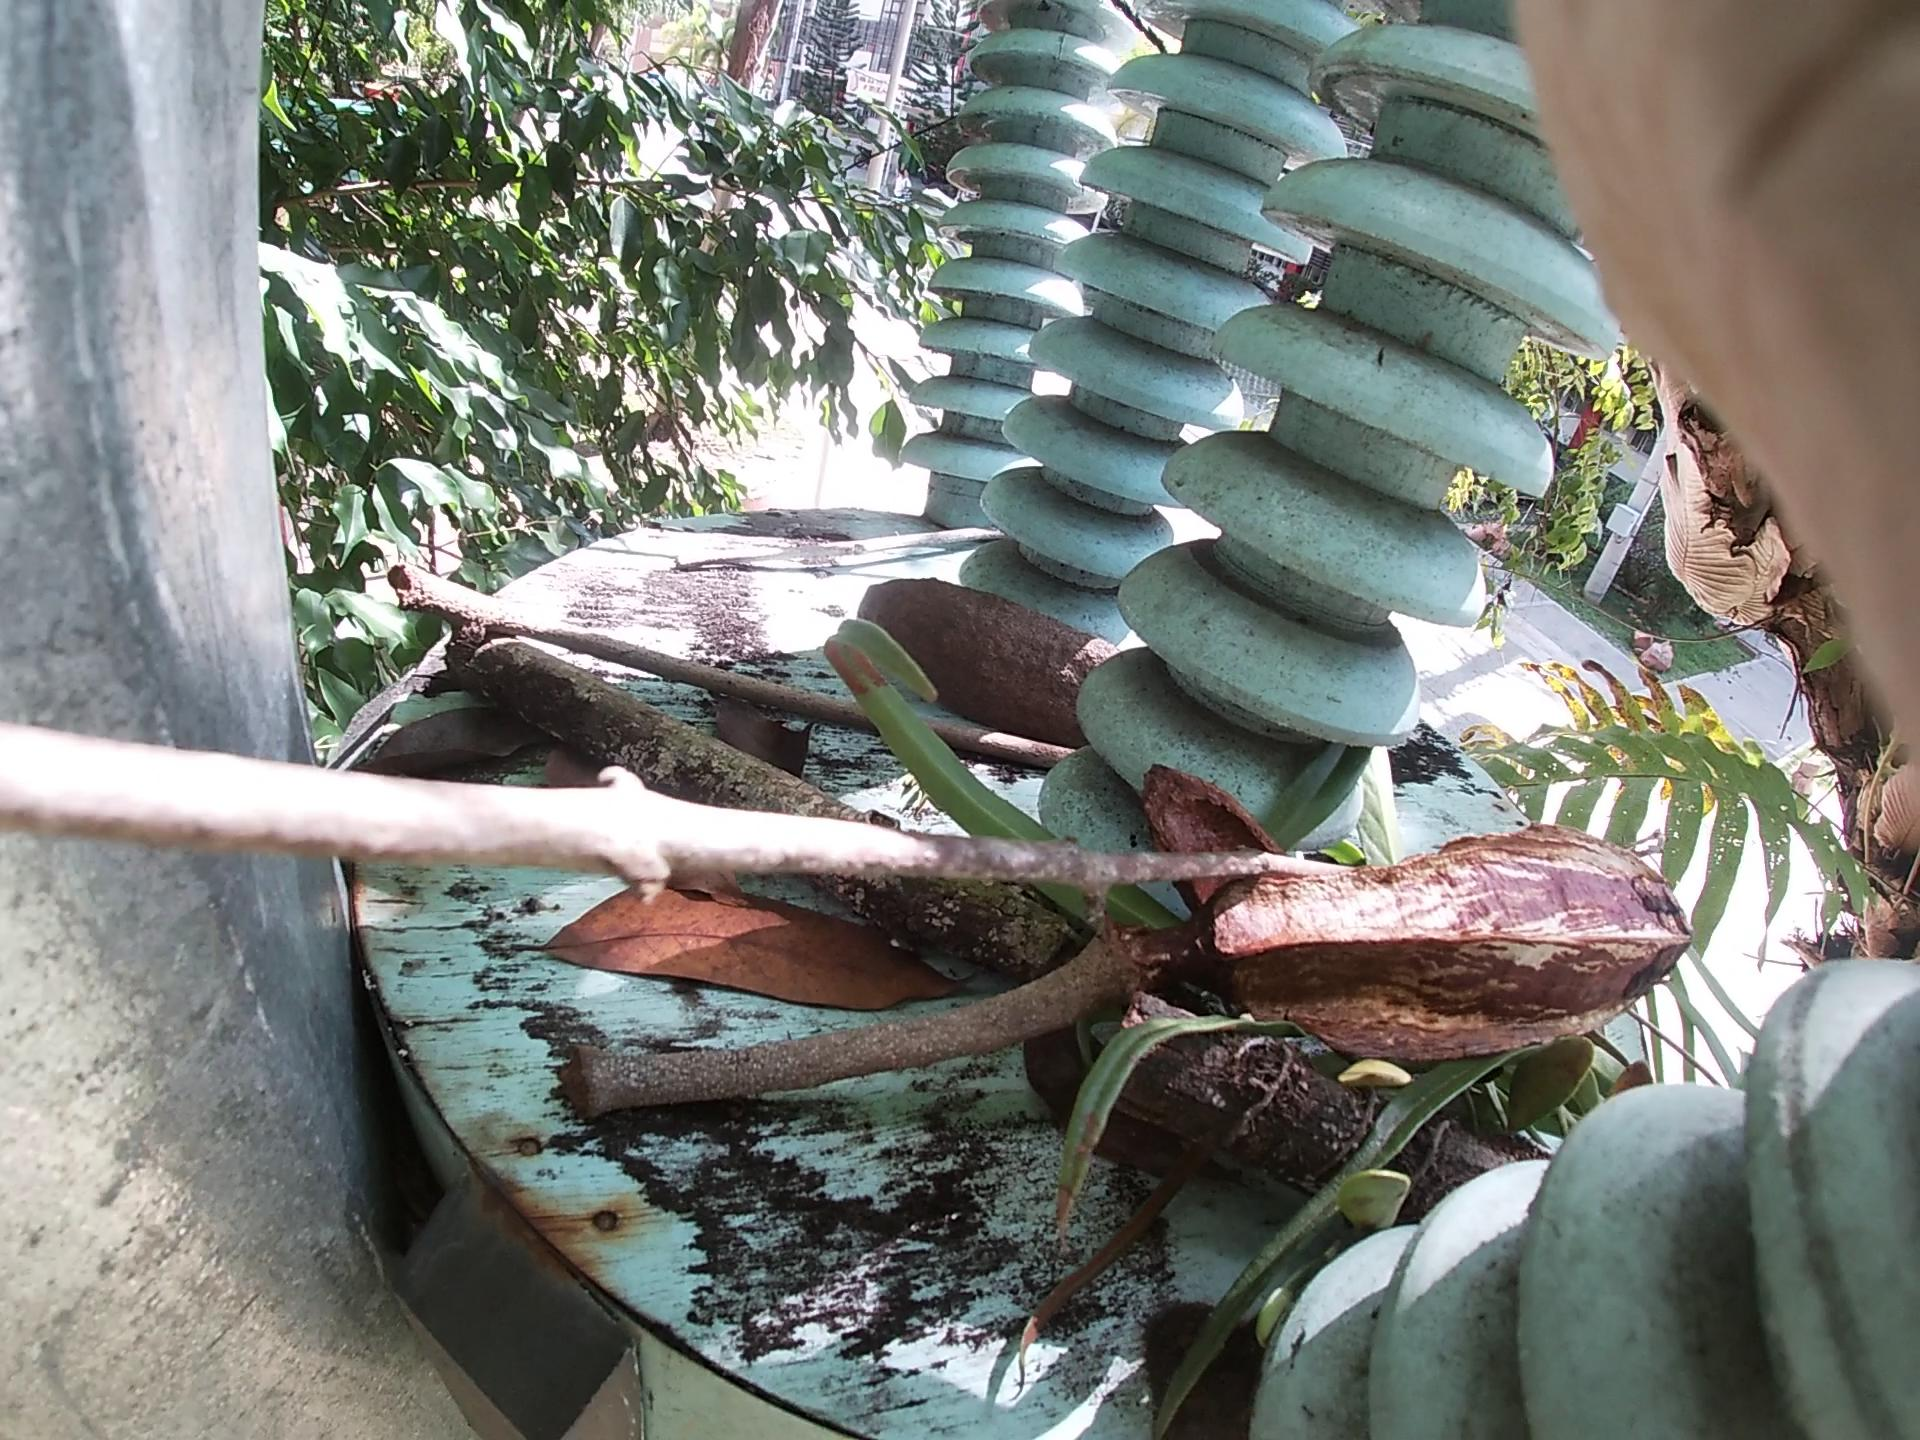branch with leaves: (540, 620, 1522, 1177)
leaf: (370, 690, 581, 839)
mahogany fruit: (1209, 824, 1752, 1075), (822, 545, 1113, 806), (1166, 762, 1342, 933)
tree branch: (88, 750, 1370, 924), (561, 729, 912, 1023), (434, 582, 1028, 735), (543, 1029, 1147, 1125), (698, 493, 1033, 585)
